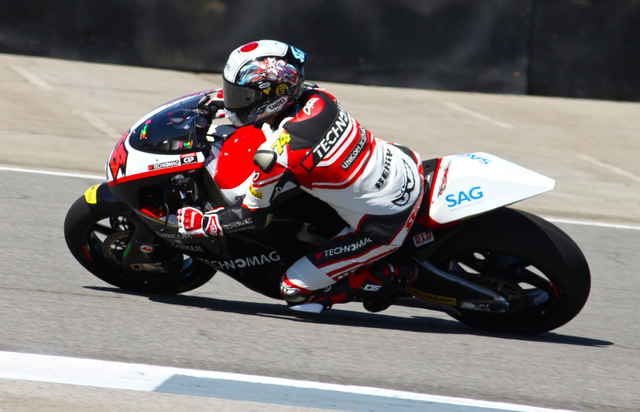helmet: (222, 35, 304, 117)
